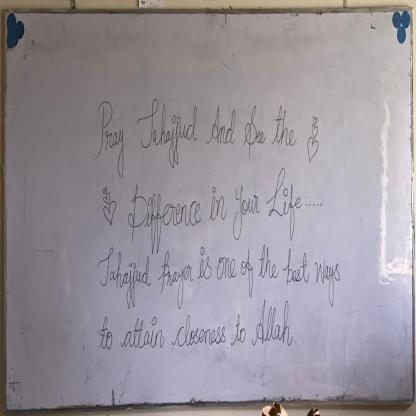Handwritten text: (85, 87, 296, 166), (97, 240, 342, 299), (125, 164, 300, 243), (66, 298, 306, 353)
Whiteboard: (5, 8, 415, 396)
